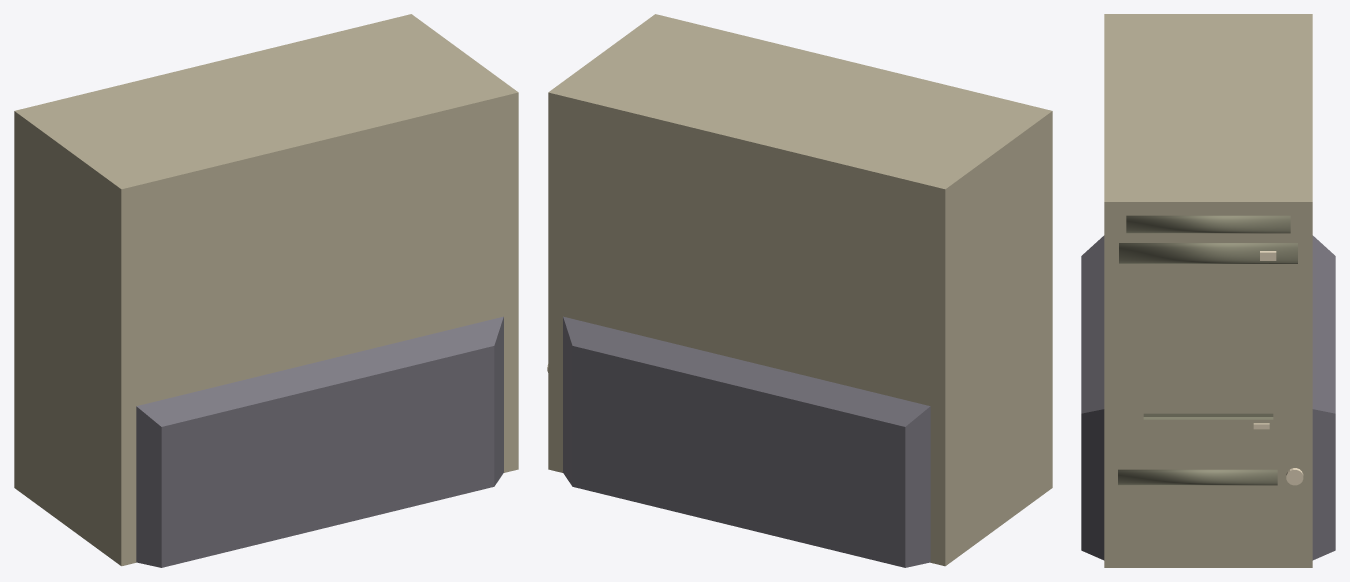
Rendered from 90scomputertower_modelingfbx.fbx.
3 views of the same model, side by side, from view 1: azimuth 30°, elevation 25°; view 2: azimuth 150°, elevation 25°; view 3: azimuth 270°, elevation 25° (orthographic). The views are drawn at different scales.
Parts seen in each view (by area): view 1: 90scomputertower_modelingfbx; view 2: 90scomputertower_modelingfbx; view 3: 90scomputertower_modelingfbx.
Boxes of the visible parts, box(x1,y1,x2,y2) form: 90scomputertower_modelingfbx: box(14, 14, 518, 567); 90scomputertower_modelingfbx: box(547, 14, 1052, 567); 90scomputertower_modelingfbx: box(1081, 14, 1335, 567).
Size of the model in its own units: 1660 by 1481 by 933.
